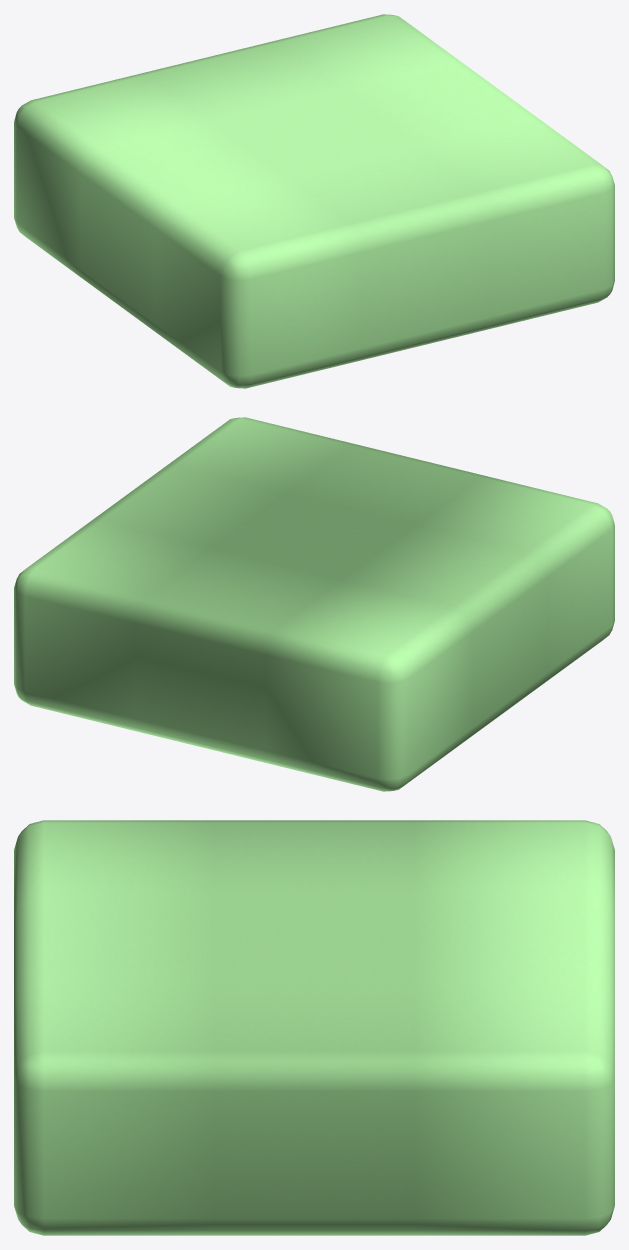
File: __clay_block_02_66.obj
The picture shows the model from 3 angles, top to bottom: view 1: azimuth 30°, elevation 25°; view 2: azimuth 150°, elevation 25°; view 3: azimuth 270°, elevation 25°; orthographic projection. The views are drawn at different scales.
Parts seen in each view (by area): view 1: clay_block_66; view 2: clay_block_66; view 3: clay_block_66.
Part boxes in pixels (x1=…): clay_block_66: x1=14, y1=14, x2=614, y2=388; clay_block_66: x1=14, y1=417, x2=614, y2=791; clay_block_66: x1=14, y1=820, x2=614, y2=1235.
Bounding box in the file's own units: 3 × 1 × 3.
Materials: 1 (1 with a texture image).
